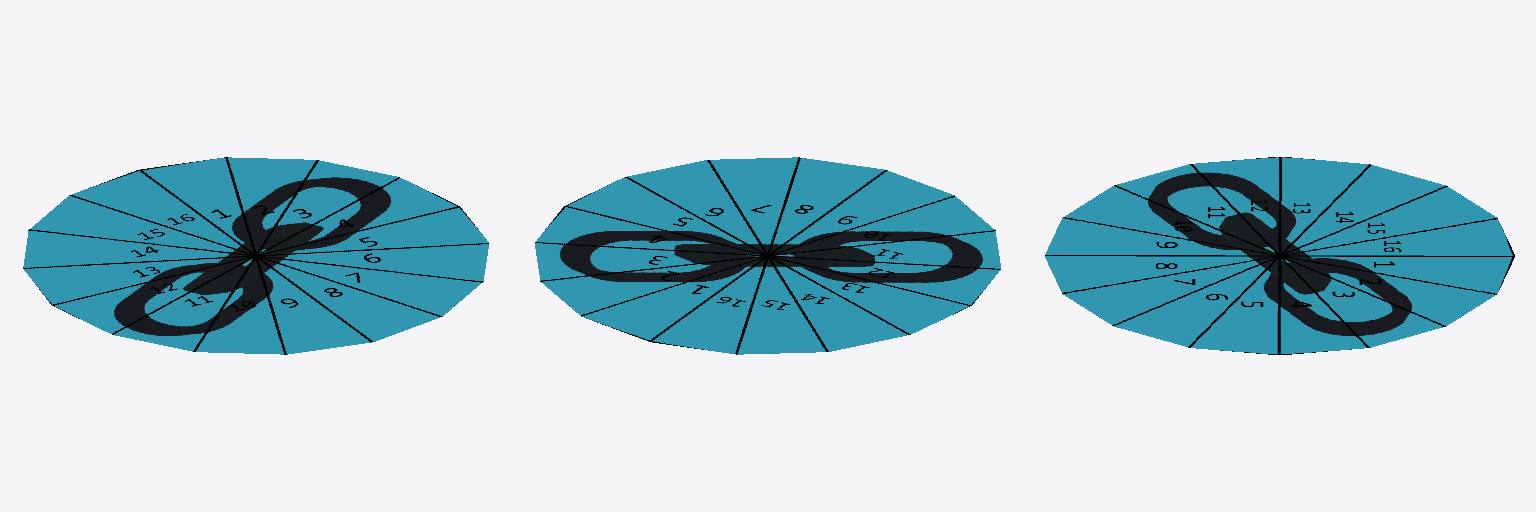
3 views of the same model, side by side, from view 1: azimuth 30°, elevation 25°; view 2: azimuth 150°, elevation 25°; view 3: azimuth 270°, elevation 25° (orthographic).
Parts seen in each view (by area): view 1: Plane; view 2: Plane; view 3: Plane.
Boxes of the visible parts, box(x1,y1,x2,y2) form: Plane: box(23, 157, 488, 354); Plane: box(535, 157, 1000, 354); Plane: box(1045, 157, 1514, 354).
Size of the model in its own units: 1 by 0 by 1.
Materials: 1 (1 with a texture image).